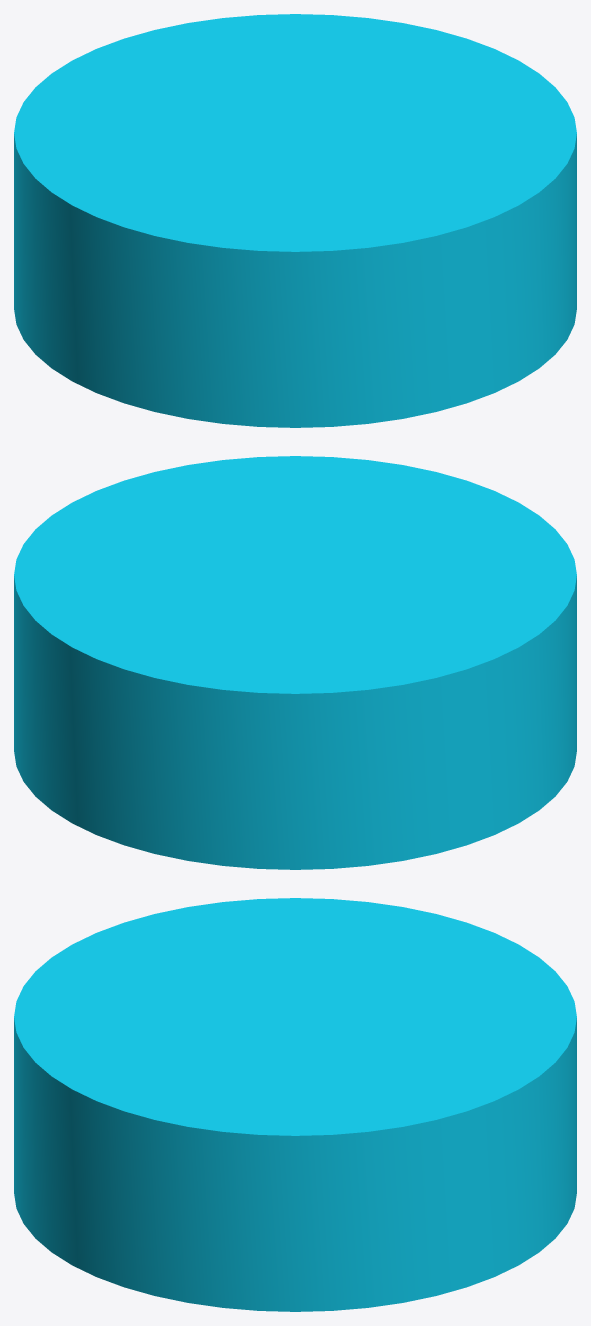
The model's file is EM_GlowPlasma.obj.
3 renders of one model, top to bottom at view 1: azimuth 30°, elevation 25°; view 2: azimuth 150°, elevation 25°; view 3: azimuth 270°, elevation 25°, orthographic.
Parts seen in each view (by area): view 1: EM_GlowPlasma; view 2: EM_GlowPlasma; view 3: EM_GlowPlasma.
Part boxes in pixels (x1=…): EM_GlowPlasma: x1=14, y1=14, x2=576, y2=427; EM_GlowPlasma: x1=14, y1=456, x2=576, y2=869; EM_GlowPlasma: x1=14, y1=898, x2=576, y2=1311.
Size of the model in its own units: 2 by 0.69 by 2.
